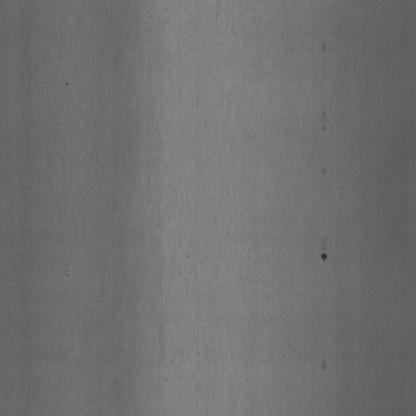oil_spot: (318, 236, 328, 263), (320, 105, 329, 134), (318, 163, 326, 183), (320, 33, 326, 55), (320, 358, 328, 374)
